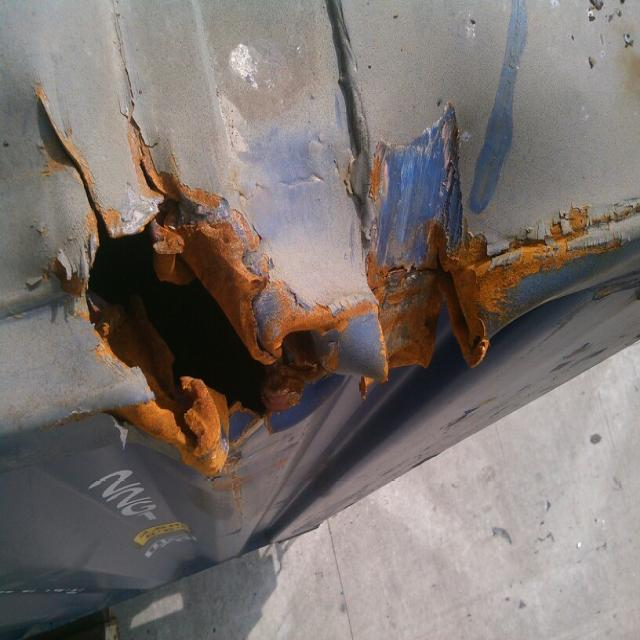hole: (62, 153, 364, 486)
